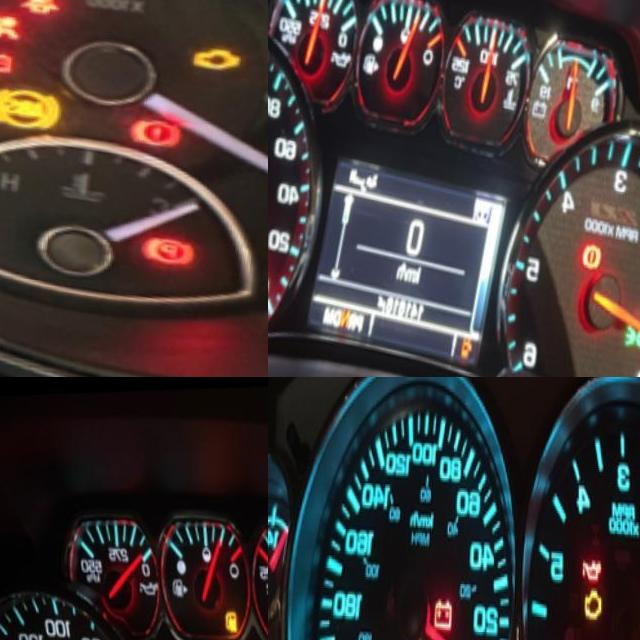Low fuel level: (224, 603, 242, 635)
